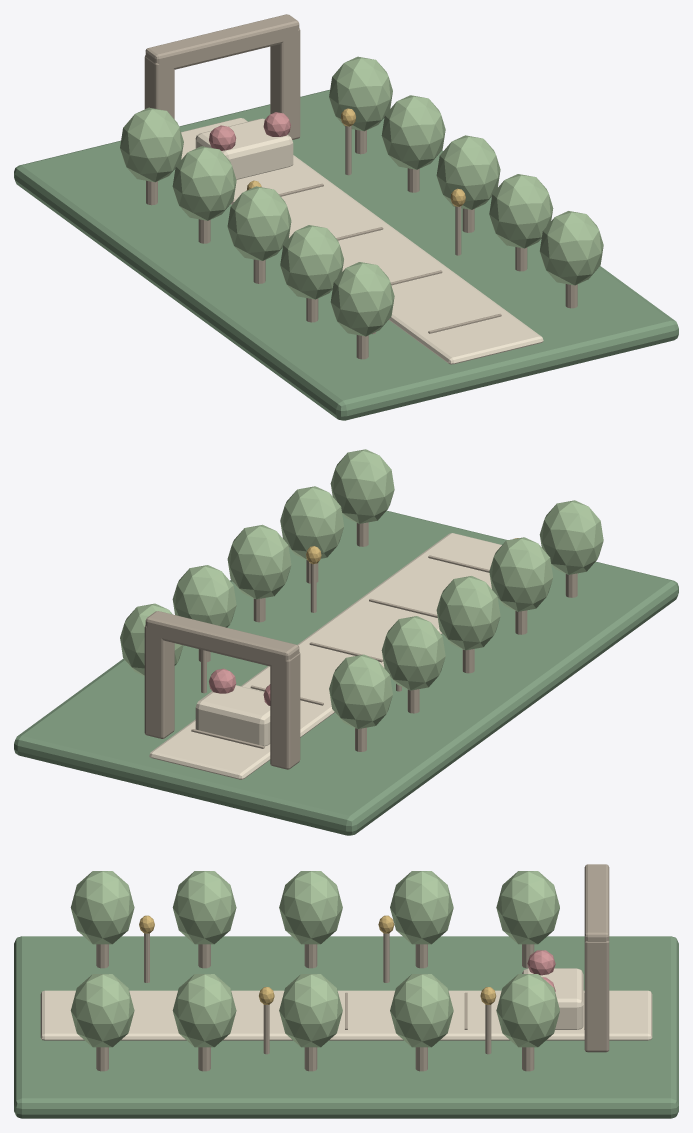
3 renders of one model, top to bottom at view 1: azimuth 30°, elevation 25°; view 2: azimuth 150°, elevation 25°; view 3: azimuth 270°, elevation 25°, orthographic.
Parts seen in each view (by area): view 1: Garden_Base, Stone_Path, Gate_Top, Tree_Crown_1_3, Tree_Crown_-1_3, Tree_Crown_-1_0, Tree_Crown_-1_4, Tree_Crown_1_0, Tree_Crown_-1_2, Tree_Crown_1_1, Tree_Crown_-1_1, Tree_Crown_1_2 (+4 smaller); view 2: Garden_Base, Stone_Path, Gate_Top, Tree_Crown_-1_4, Tree_Crown_-1_2, Tree_Crown_1_2, Tree_Crown_-1_1, Tree_Crown_-1_3, Tree_Crown_1_0, Tree_Crown_-1_0, Tree_Crown_1_1, Ceremony_Plinth (+4 smaller); view 3: Garden_Base, Stone_Path, Tree_Crown_-1_1, Tree_Crown_1_3, Tree_Crown_-1_0, Tree_Crown_1_4, Tree_Crown_-1_3, Tree_Crown_1_2, Tree_Crown_1_0, Tree_Crown_1_1, Tree_Crown_-1_2, Tree_Crown_-1_4 (+4 smaller).
Part boxes in pixels (x1,y1,x2,y2): Garden_Base: (14,89,678,420); Stone_Path: (181,118,543,364); Gate_Top: (145,14,299,71); Tree_Crown_1_3: (381,95,445,169); Tree_Crown_-1_3: (172,146,236,220); Tree_Crown_-1_0: (330,262,394,336); Tree_Crown_-1_4: (120,107,183,182); Tree_Crown_1_0: (539,211,603,285); Tree_Crown_-1_2: (227,186,291,260); Tree_Crown_1_1: (489,174,553,248); Tree_Crown_-1_1: (280,225,343,299); Tree_Crown_1_2: (436,135,500,209); Garden_Base: (14,510,678,835); Stone_Path: (149,533,501,779); Gate_Top: (145,611,299,668); Tree_Crown_-1_4: (329,654,392,728); Tree_Crown_-1_2: (436,576,500,650); Tree_Crown_1_2: (227,524,291,599); Tree_Crown_-1_1: (489,537,553,611); Tree_Crown_-1_3: (381,616,445,690); Tree_Crown_1_0: (330,449,394,523); Tree_Crown_-1_0: (539,500,603,574); Tree_Crown_1_1: (280,486,343,559); Ceremony_Plinth: (195,685,270,746); Garden_Base: (14,936,678,1118); Stone_Path: (40,990,652,1040); Tree_Crown_-1_1: (172,871,236,944); Tree_Crown_1_3: (390,974,453,1047); Tree_Crown_-1_0: (70,871,134,944); Tree_Crown_1_4: (496,974,559,1047); Tree_Crown_-1_3: (390,871,453,944); Tree_Crown_1_2: (279,974,342,1047); Tree_Crown_1_0: (70,974,134,1047); Tree_Crown_1_1: (172,974,236,1047); Tree_Crown_-1_2: (279,871,342,944); Tree_Crown_-1_4: (496,871,559,944).
Size of the model in its own units: 9 by 3.46 by 15.
